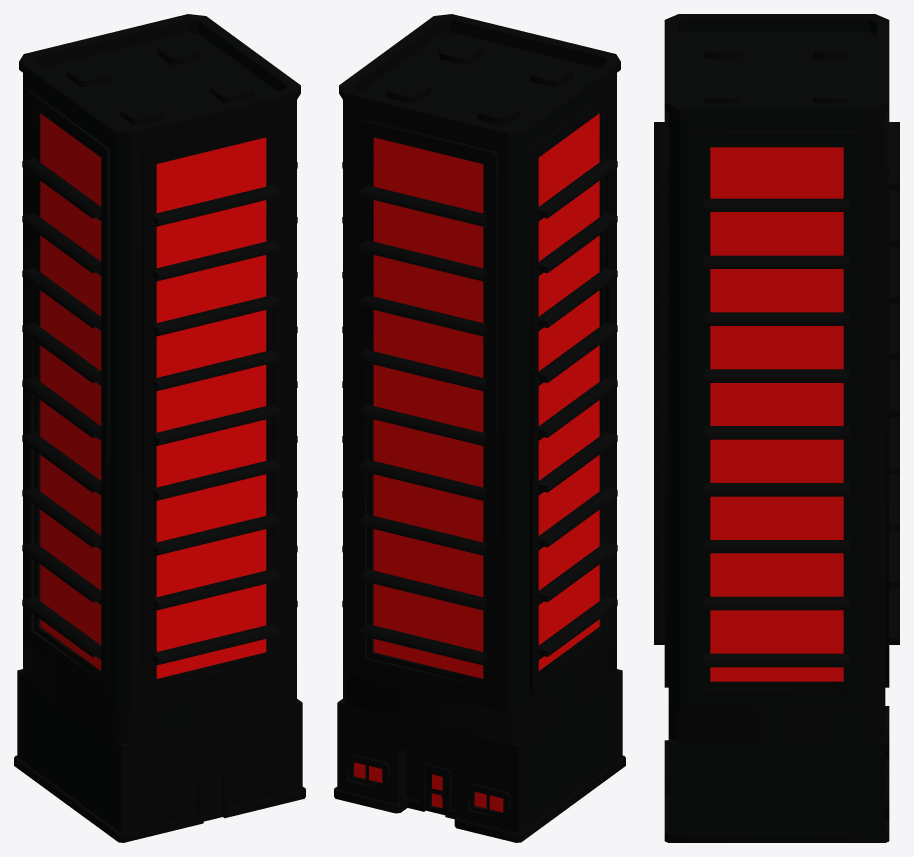
Rendered from building-skyscraper-b.glb.
3 views of the same model, side by side, from view 1: azimuth 30°, elevation 25°; view 2: azimuth 150°, elevation 25°; view 3: azimuth 270°, elevation 25° (orthographic). The views are drawn at different scales.
Visible parts, largest first — view 1: building-skyscraper-b; view 2: building-skyscraper-b; view 3: building-skyscraper-b.
Part boxes in pixels (x1,y1,x2,y2): building-skyscraper-b: (14, 14, 305, 842); building-skyscraper-b: (334, 14, 625, 842); building-skyscraper-b: (654, 14, 899, 842).
Size of the model in its own units: 1.36 by 4.48 by 1.36.
Materials: 1 (1 with a texture image).
